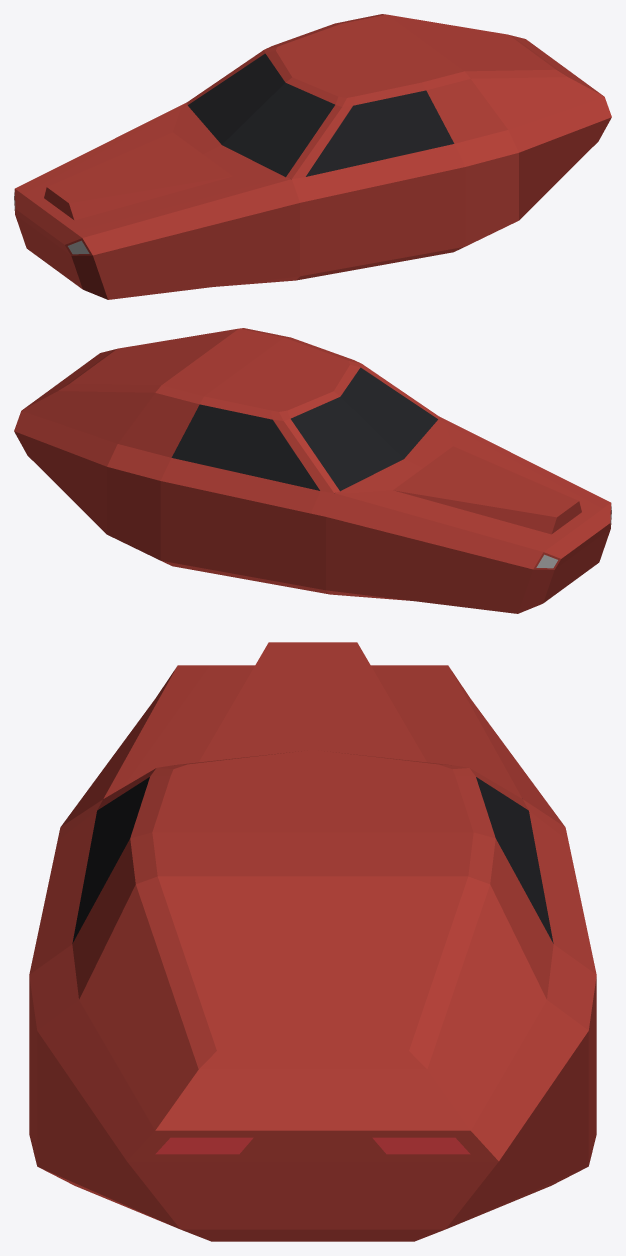
Rendered from Car-4.fbx.
The picture shows the model from 3 angles, top to bottom: view 1: azimuth 30°, elevation 25°; view 2: azimuth 150°, elevation 25°; view 3: azimuth 270°, elevation 25°; orthographic projection. The views are drawn at different scales.
Visible parts, largest first — view 1: Car-4; view 2: Car-4; view 3: Car-4.
Boxes of the visible parts, bbox=[...] form: Car-4: bbox=[14, 14, 611, 299]; Car-4: bbox=[14, 328, 611, 613]; Car-4: bbox=[29, 642, 596, 1241].
Size of the model in its own units: 397 by 113 by 186.
